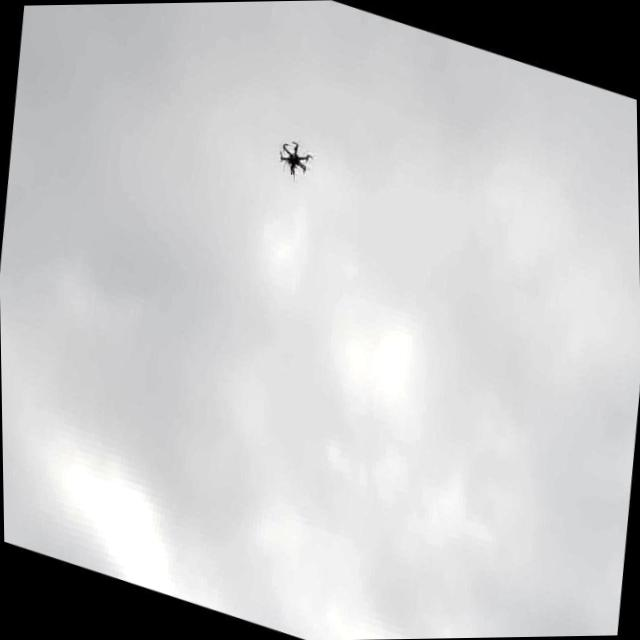drone: (272, 129, 316, 188)
